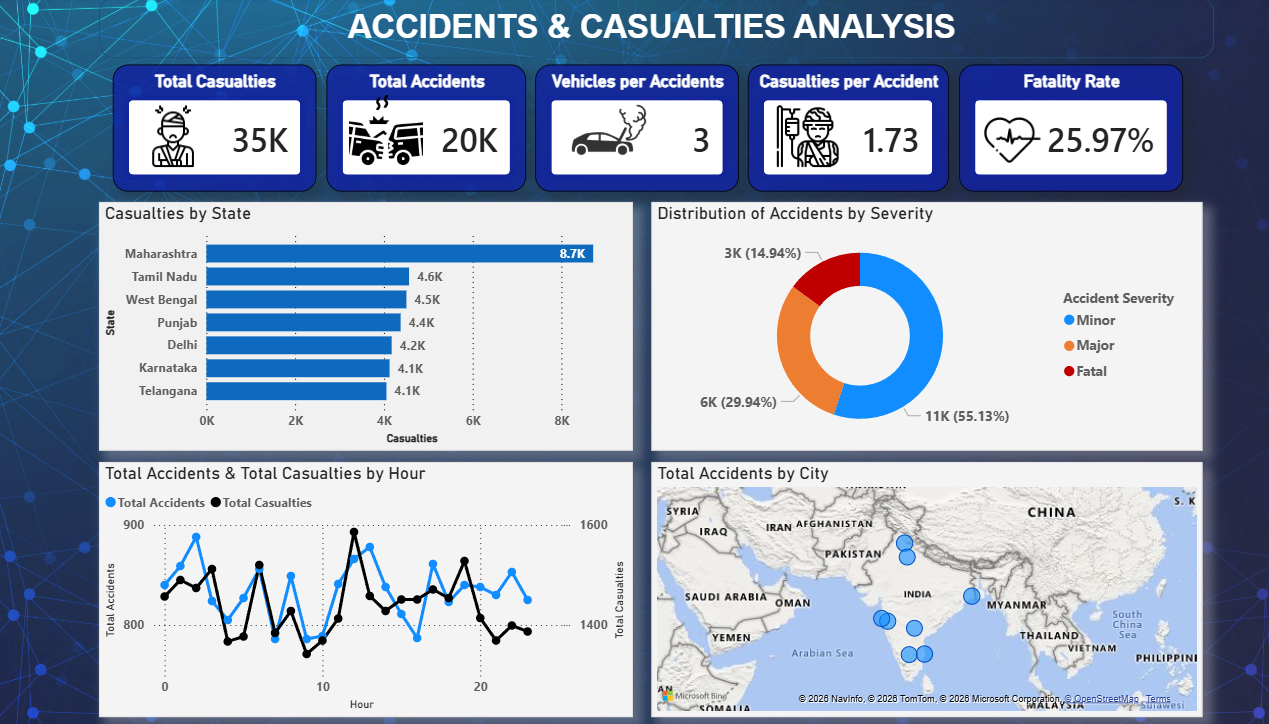

The page's visual inventory and layout, read from the dashboard file:
{"tool":"powerbi","page":{"name":"Accidents & Casualties ","canvas":[1280,720],"ordinal":0},"visuals":[{"type":"textbox","box":[103.1,0,1094.5,60.1],"z":0},{"type":"cardVisual","title":"Total Casualties","fields":{"Data":["Table.Total Casualties"]},"box":[116.2,66.2,200,125],"z":1000},{"type":"cardVisual","title":"Fatality Rate","fields":{"Data":["Table.Fatal Acc Rate"]},"box":[947.5,66.2,220,125],"z":2000},{"type":"cardVisual","title":"Total Accidents","fields":{"Data":["Table.Total Accidents"]},"box":[326.2,66.2,196.2,125],"z":3000},{"type":"cardVisual","title":"Vehicles per Accidents","fields":{"Data":["Table.Total Vehicles Involved"]},"box":[531.2,66.2,200,125],"z":4000},{"type":"cardVisual","title":"Casualties per Accident","fields":{"Data":["Table.Avg Casualties"]},"box":[740,66.2,197.5,125],"z":5000},{"type":"donutChart","title":"Distribution of Accidents by Severity","fields":{"Category":["indian_roads_dataset.accident_severity"],"Y":["Table.Total Accidents"]},"box":[645.4,201,541.1,244.2],"z":6000},{"type":"map","title":"Total Accidents by City","fields":{"Category":["indian_roads_dataset.city"],"Size":["Table.Total Accidents"]},"box":[645.4,456.2,541.1,250.3],"z":7000},{"type":"barChart","title":"Casualties by State","fields":{"Category":["indian_roads_dataset.state"],"Y":["Sum(indian_roads_dataset.casualties)"]},"box":[103.1,201,523.9,244.2],"z":8000},{"type":"lineChart","title":"Total Accidents & Total Casualties by Hour","fields":{"Y":["Table.Total Accidents"],"Y2":["Table.Total Casualties"],"Category":["indian_roads_dataset.hour"]},"box":[103.1,456.2,523.9,250.3],"z":9000},{"type":"image","box":[135,105.5,81,62.6],"z":10000},{"type":"image","box":[566.9,92,73.6,77.3],"z":11000},{"type":"image","box":[344.8,87.1,79.8,88.3],"z":12000},{"type":"image","box":[968.1,112.9,63.8,55.2],"z":13000},{"type":"image","box":[758.3,104.3,81,65],"z":14000}]}

Visuals, with their boxes in screenshot pixels (x1, y1, x2, y2), scaled from the page's 1280x720 canvas onto the 1269x724 screenshot:
textbox: bbox(102, 0, 1187, 60)
"Total Casualties" cardVisual: bbox(115, 67, 313, 192)
"Fatality Rate" cardVisual: bbox(939, 67, 1157, 192)
"Total Accidents" cardVisual: bbox(323, 67, 518, 192)
"Vehicles per Accidents" cardVisual: bbox(527, 67, 725, 192)
"Casualties per Accident" cardVisual: bbox(734, 67, 929, 192)
"Distribution of Accidents by Severity" donutChart: bbox(640, 202, 1176, 448)
"Total Accidents by City" map: bbox(640, 459, 1176, 710)
"Casualties by State" barChart: bbox(102, 202, 622, 448)
"Total Accidents & Total Casualties by Hour" lineChart: bbox(102, 459, 622, 710)
image: bbox(134, 106, 214, 169)
image: bbox(562, 93, 635, 170)
image: bbox(342, 88, 421, 176)
image: bbox(960, 114, 1023, 169)
image: bbox(752, 105, 832, 170)
